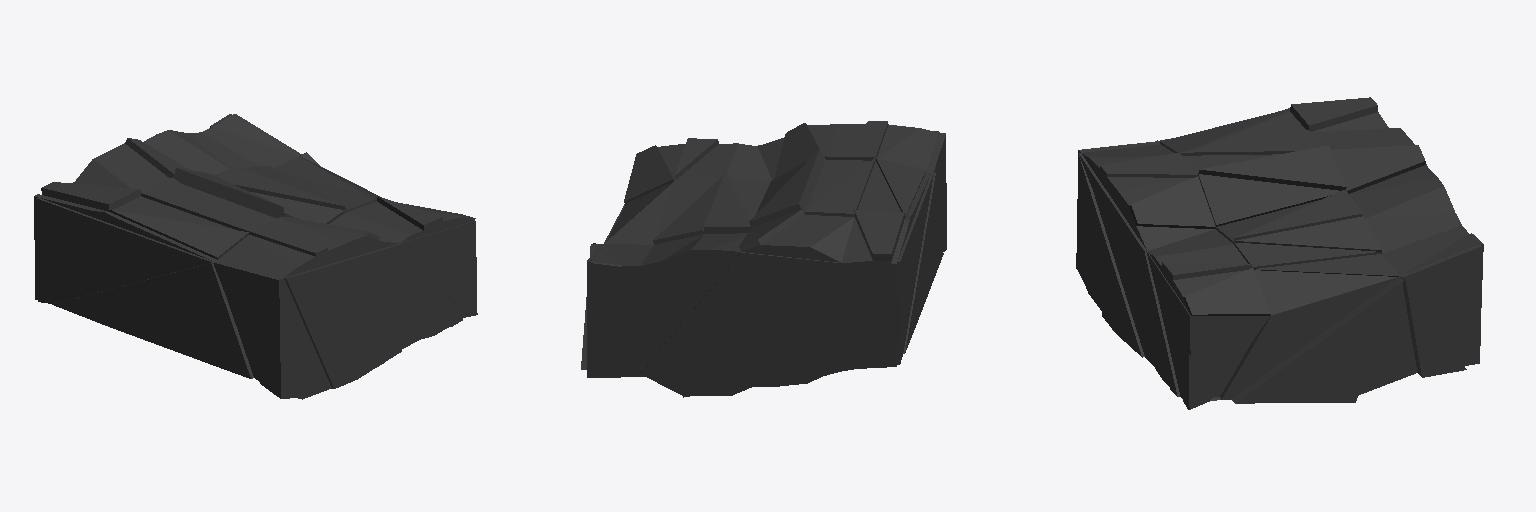
Rendered from tile_2.obj.
3 renders of one model, left to right at view 1: azimuth 30°, elevation 25°; view 2: azimuth 150°, elevation 25°; view 3: azimuth 270°, elevation 25°, orthographic.
Visible parts, largest first — view 1: Cube.014_Cube.001; view 2: Cube.014_Cube.001; view 3: Cube.014_Cube.001.
Boxes of the visible parts, box(x1,y1,x2,y2) form: Cube.014_Cube.001: box(34, 114, 477, 399); Cube.014_Cube.001: box(581, 121, 946, 397); Cube.014_Cube.001: box(1076, 97, 1483, 409).
Size of the model in its own units: 1.42 by 0.6471 by 1.43.